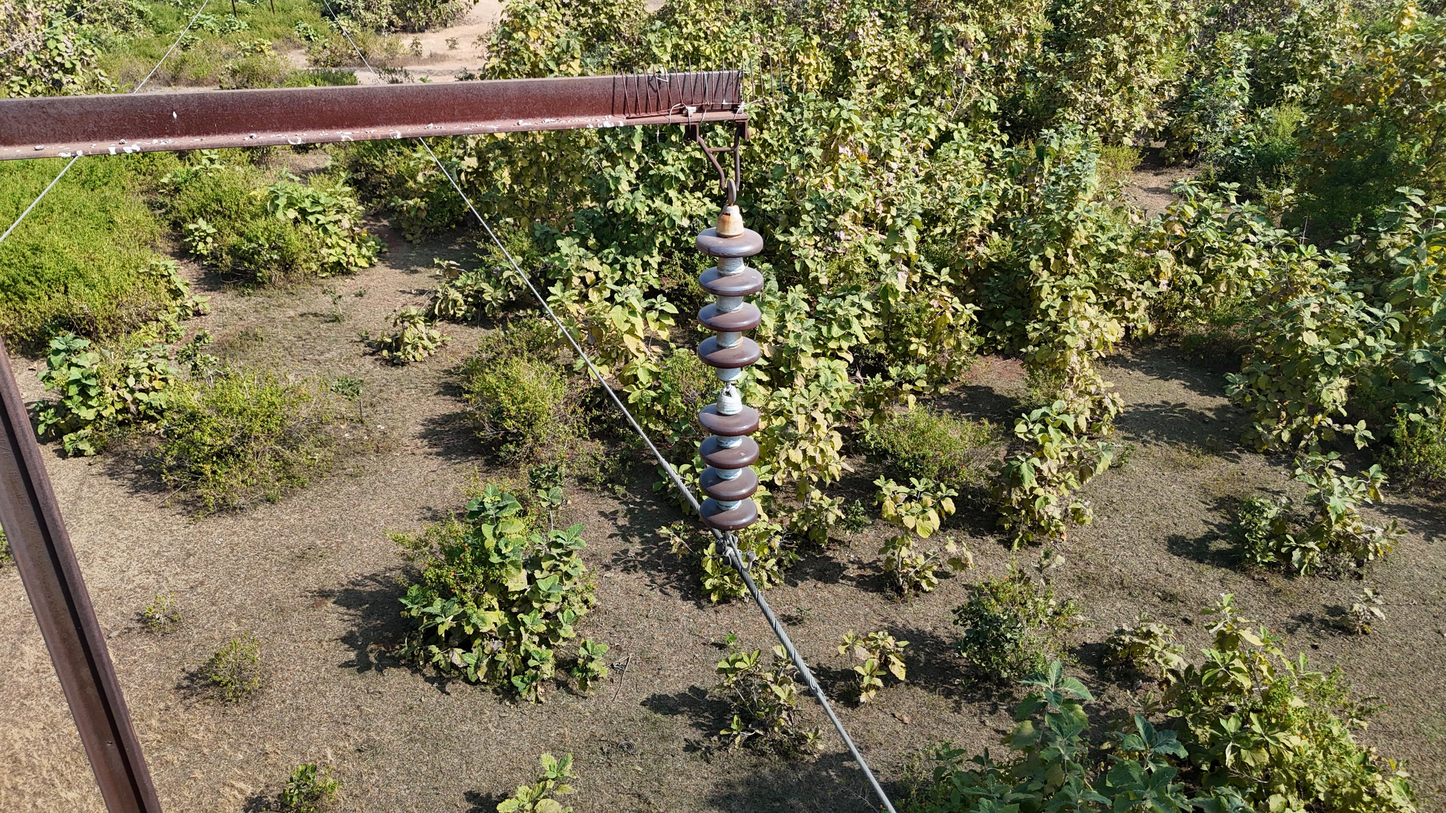broken_insulator: (695, 376, 764, 401)
